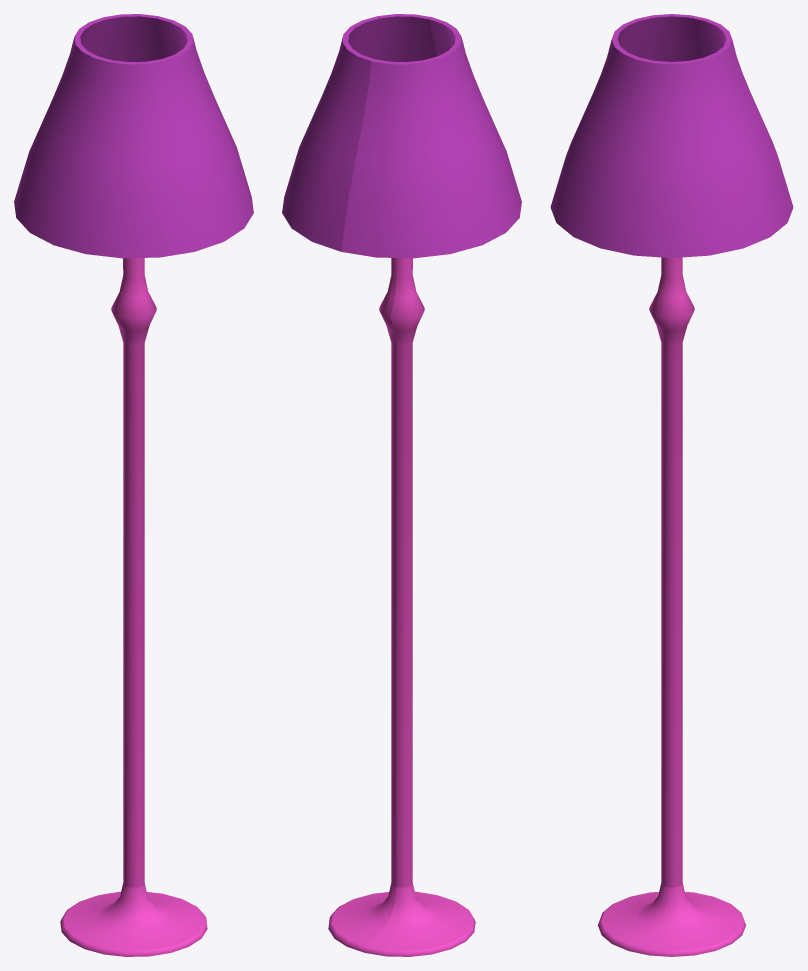
3 views of the same model, side by side, from view 1: azimuth 30°, elevation 25°; view 2: azimuth 150°, elevation 25°; view 3: azimuth 270°, elevation 25° (orthographic).
Visible parts, largest first — view 1: split_parent_2, split_parent_3; view 2: split_parent_2, split_parent_3; view 3: split_parent_2, split_parent_3.
Boxes of the visible parts, <box> form: split_parent_2: <box>14,14,253,258</box>; split_parent_3: <box>60,258,207,956</box>; split_parent_2: <box>282,14,521,258</box>; split_parent_3: <box>328,258,475,956</box>; split_parent_2: <box>550,14,793,257</box>; split_parent_3: <box>598,257,745,956</box>.
Bounding box in the file's own units: 0.2458 × 1 × 0.2485.
